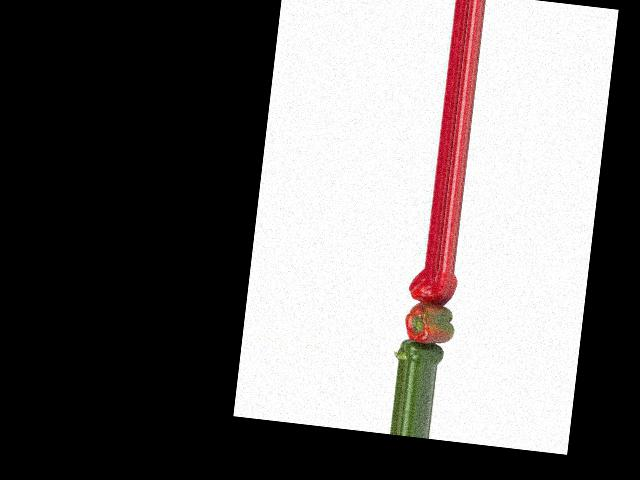bell_pepper: (403, 266, 461, 308)
